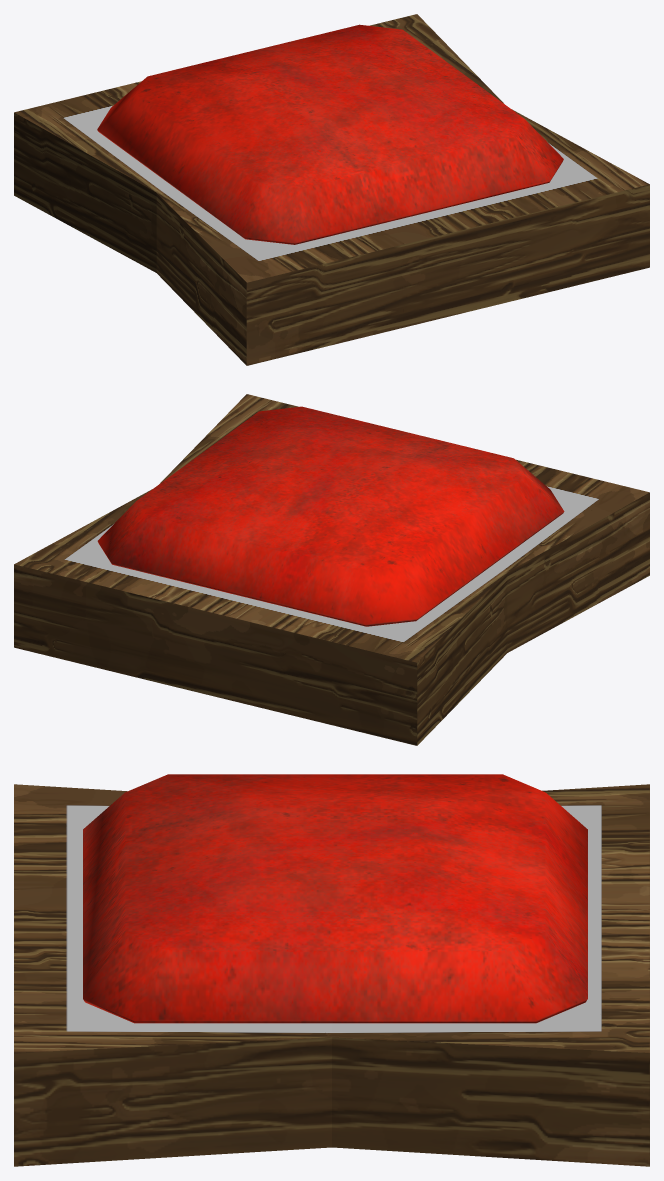
Rendered from GameReadyJumpad.glb.
The picture shows the model from 3 angles, top to bottom: view 1: azimuth 30°, elevation 25°; view 2: azimuth 150°, elevation 25°; view 3: azimuth 270°, elevation 25°; orthographic projection. The views are drawn at different scales.
Visible parts, largest first — view 1: Springplate.2, Springplate; view 2: Springplate.2, Springplate; view 3: Springplate, Springplate.2.
Boxes of the visible parts, left/top/right/bottom form: Springplate.2: left=14, top=14, right=649, bottom=365; Springplate: left=97, top=24, right=563, bottom=244; Springplate.2: left=14, top=394, right=649, bottom=745; Springplate: left=97, top=406, right=564, bottom=626; Springplate: left=83, top=774, right=587, bottom=1023; Springplate.2: left=14, top=784, right=649, bottom=1166.
Bounding box in the file's own units: 3.42 × 1.15 × 3.42.
1 material, 1 textured.
